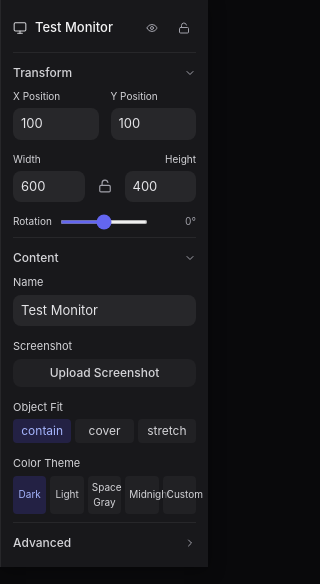
Test: single selection — transform › persists the transform section open state per session
Click the button "Transform": [104, 73] box [13,61,196,85]
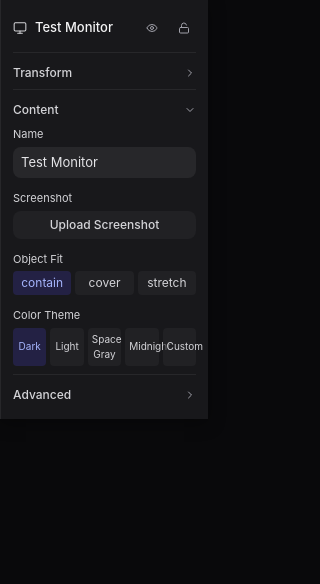
Expected: the button "Transform" is collapsed, [13,61,196,85]
